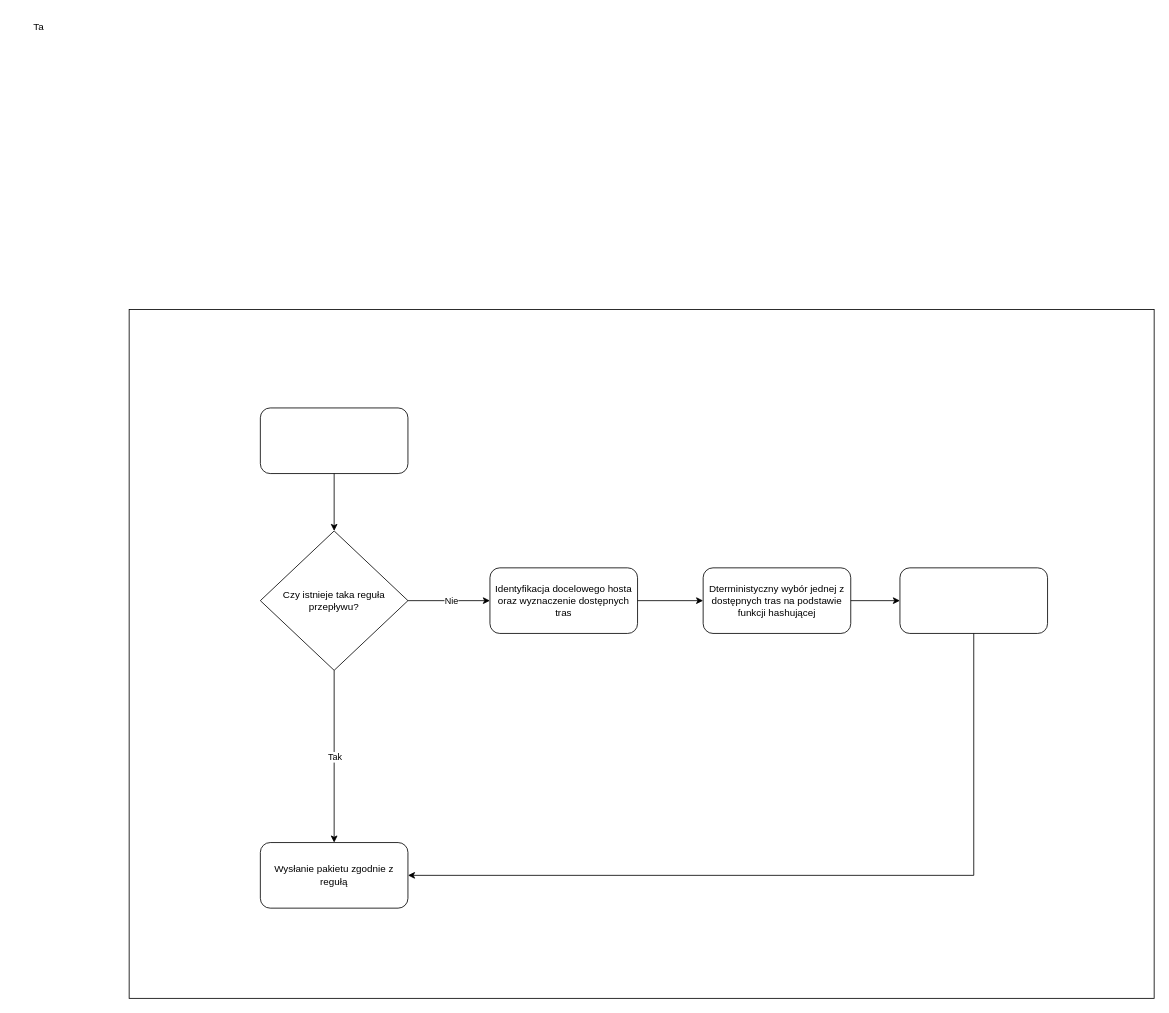
The diagram is 1169 pixels wide and 1013 high, and some of its shapes have lost their labels. Here are the shapes that lost their labels. From the top down, the centre of each, then its label:
the point at 334,440: Pakiet wysłany przez hosta trafia do przełącznika
the point at 973,600: Instalacja reguły w przełączniku
